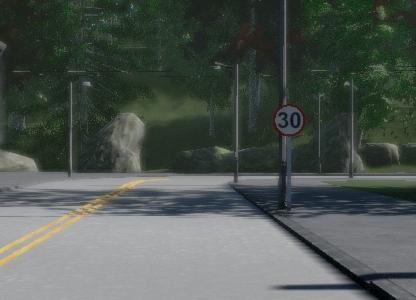Speed_30: (269, 101, 308, 141)
